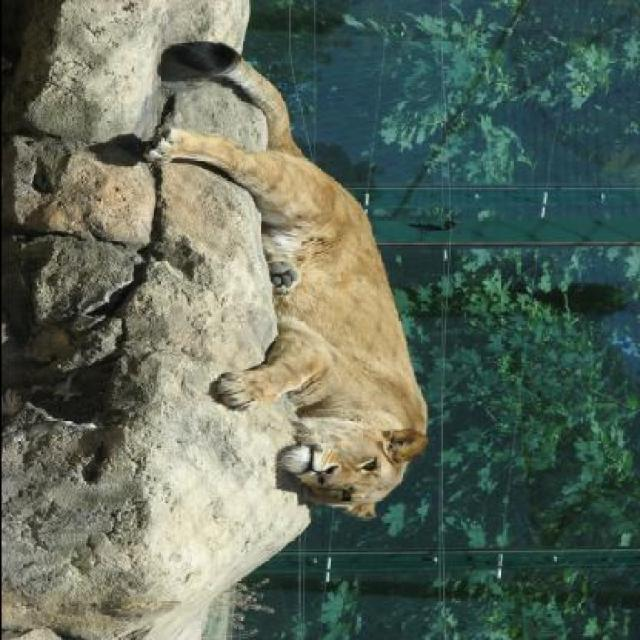Lion: (123, 32, 443, 525)
